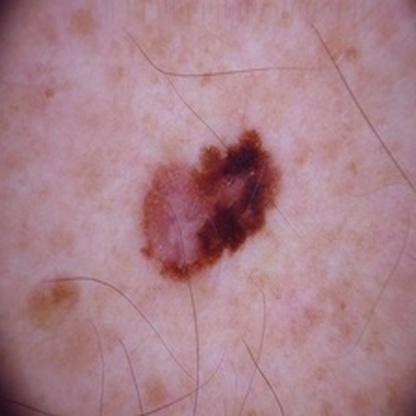malignant: (150, 147, 272, 269)
